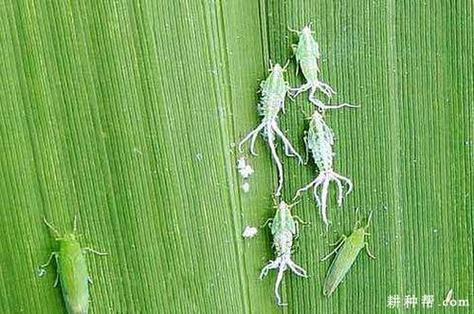Delphacidae: (237, 57, 304, 198), (291, 110, 353, 229), (282, 22, 362, 111), (38, 215, 109, 314), (257, 198, 307, 308), (318, 208, 376, 299)
